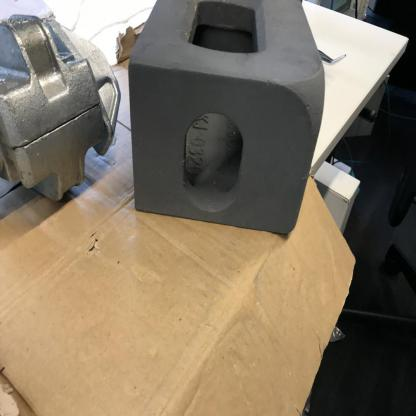CornerCasting: (128, 0, 331, 241)
Twistlock: (0, 8, 125, 208)
